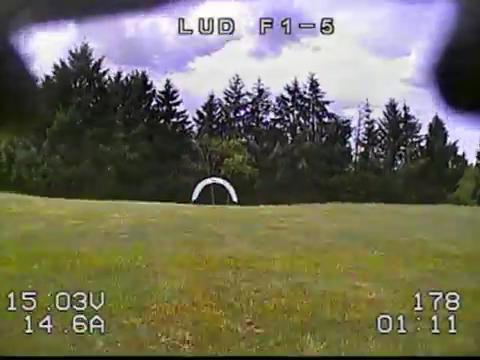gate: (191, 176, 239, 203)
